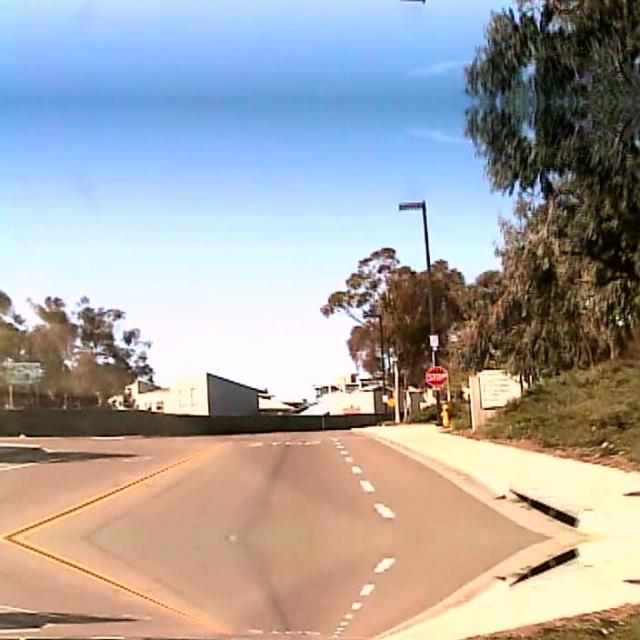stop: (426, 365, 446, 385)
